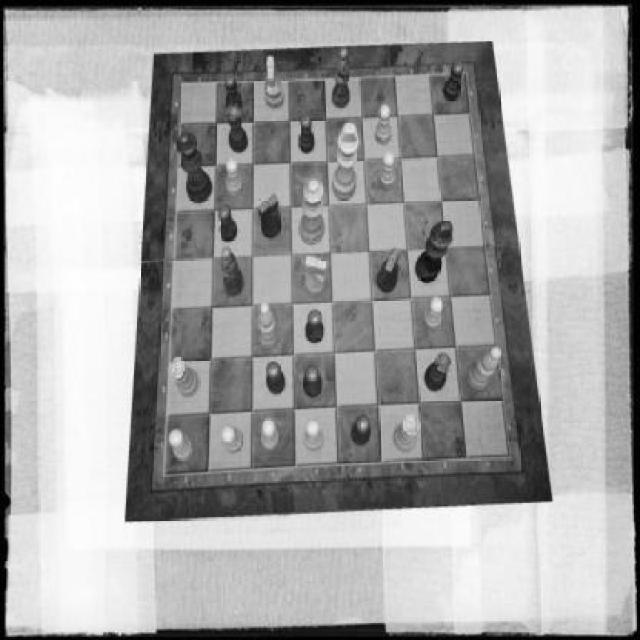bishop: (332, 48, 350, 108), (222, 248, 244, 297)
black-bishop: (415, 220, 453, 284)
black-king: (258, 192, 282, 238), (377, 248, 400, 293)
black-knight: (444, 60, 464, 102), (218, 206, 238, 242), (266, 362, 286, 396), (304, 310, 324, 344), (225, 74, 242, 114), (298, 114, 314, 154), (303, 366, 322, 399), (351, 416, 371, 446)
black-pawn: (176, 132, 212, 205)
black-queen: (226, 104, 249, 154), (424, 352, 452, 392)
black-rook: (466, 348, 502, 392), (257, 303, 279, 351)
white-bishop: (332, 123, 360, 201)
white-king: (266, 57, 286, 109), (304, 257, 328, 295)
white-knight: (169, 431, 194, 463), (423, 295, 443, 330), (226, 158, 243, 198), (380, 151, 397, 189), (221, 426, 244, 454), (304, 420, 324, 452), (376, 104, 392, 144), (260, 418, 279, 451)
white-pawn: (300, 178, 326, 244)
white-queen: (171, 357, 200, 397), (394, 414, 420, 452)
